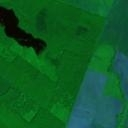alloviz: (1, 3, 48, 57)
